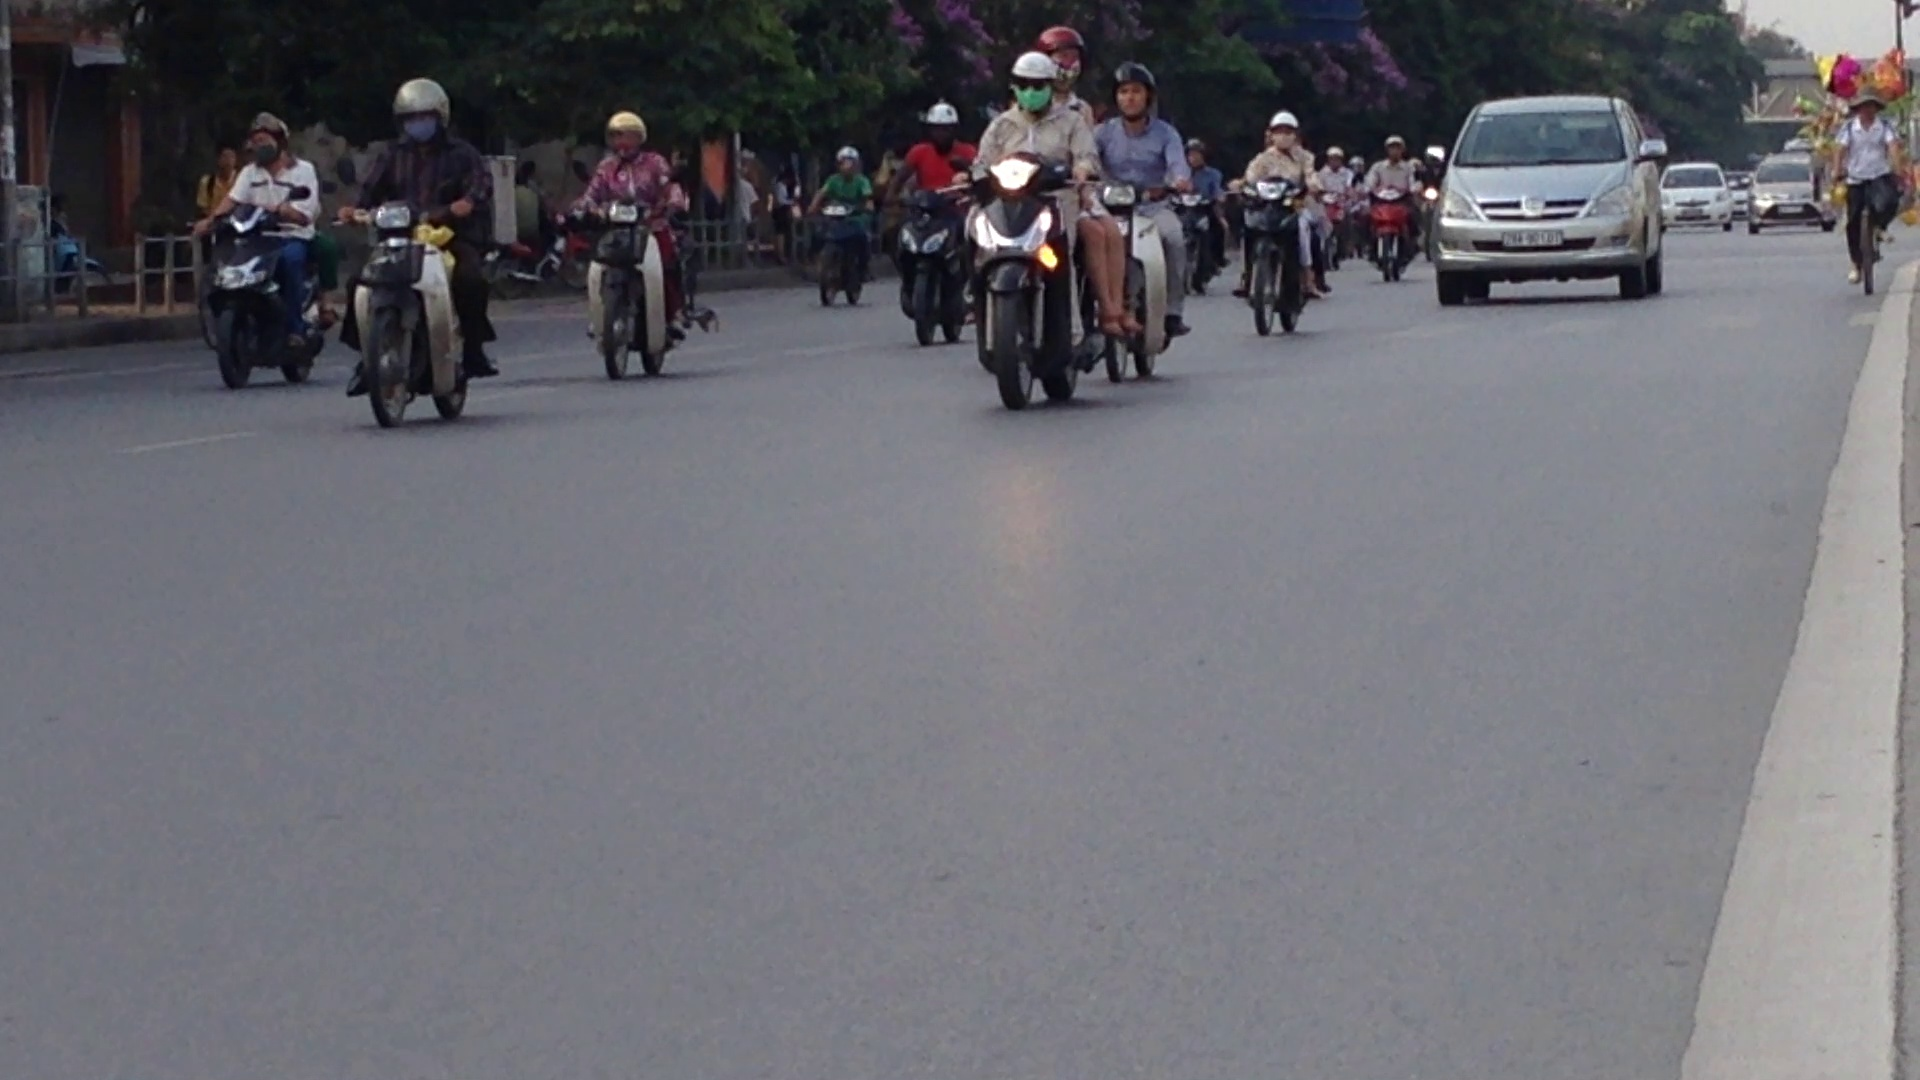person: (1492, 225, 1567, 248)
